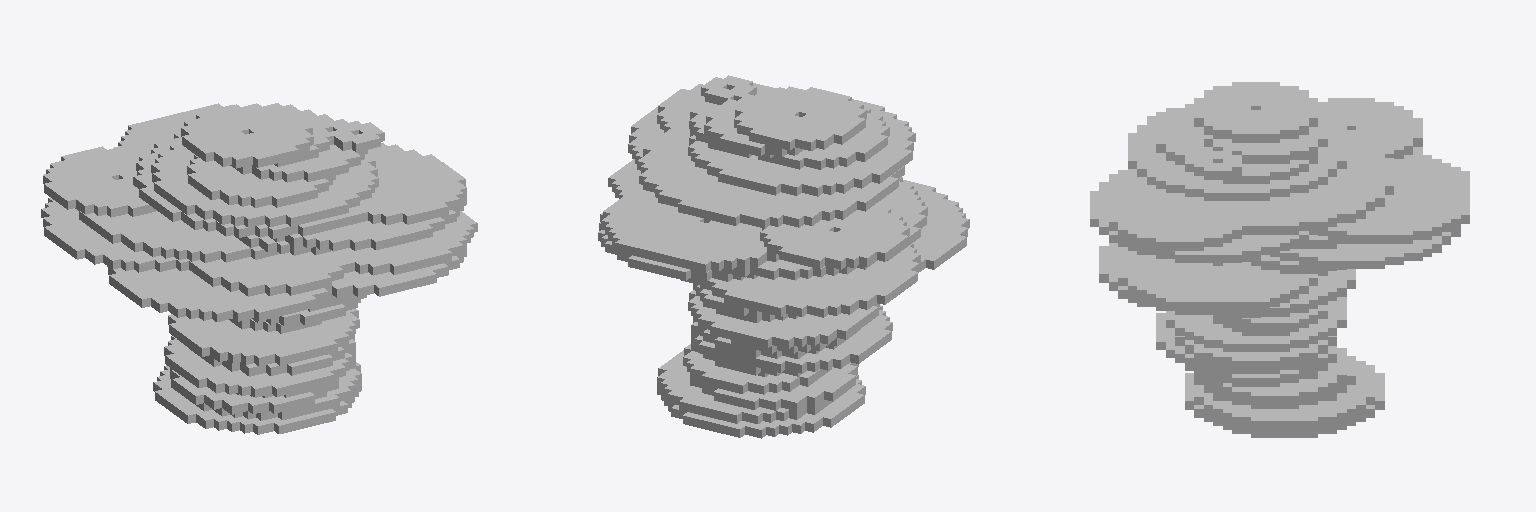
File: Tree.obj
3 views of the same model, side by side, from view 1: azimuth 30°, elevation 25°; view 2: azimuth 150°, elevation 25°; view 3: azimuth 270°, elevation 25° (orthographic).
Visible parts, largest first — view 1: object 1; view 2: object 1; view 3: object 1.
Boxes of the visible parts, <box> form: object 1: <box>41,103,477,434</box>; object 1: <box>598,75,969,438</box>; object 1: <box>1090,82,1469,437</box>.
Size of the model in its own units: 4 by 3.2 by 4.